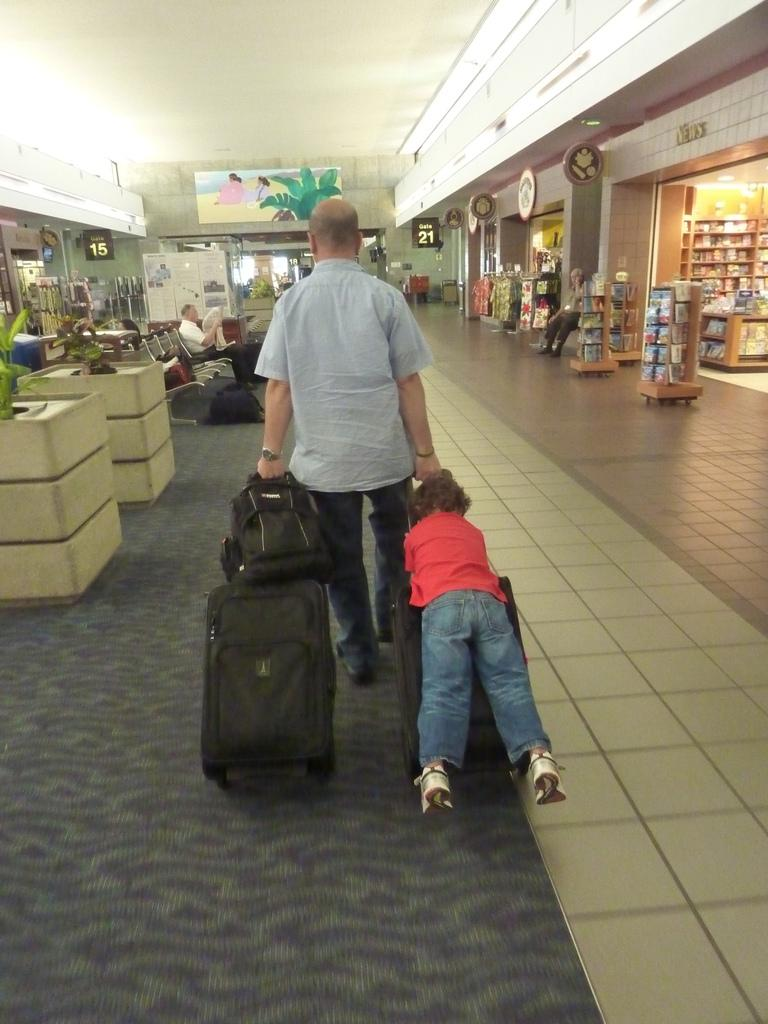Luggage-and-bags: (397, 456, 535, 785), (201, 528, 339, 788), (224, 472, 337, 578), (192, 371, 262, 425)
